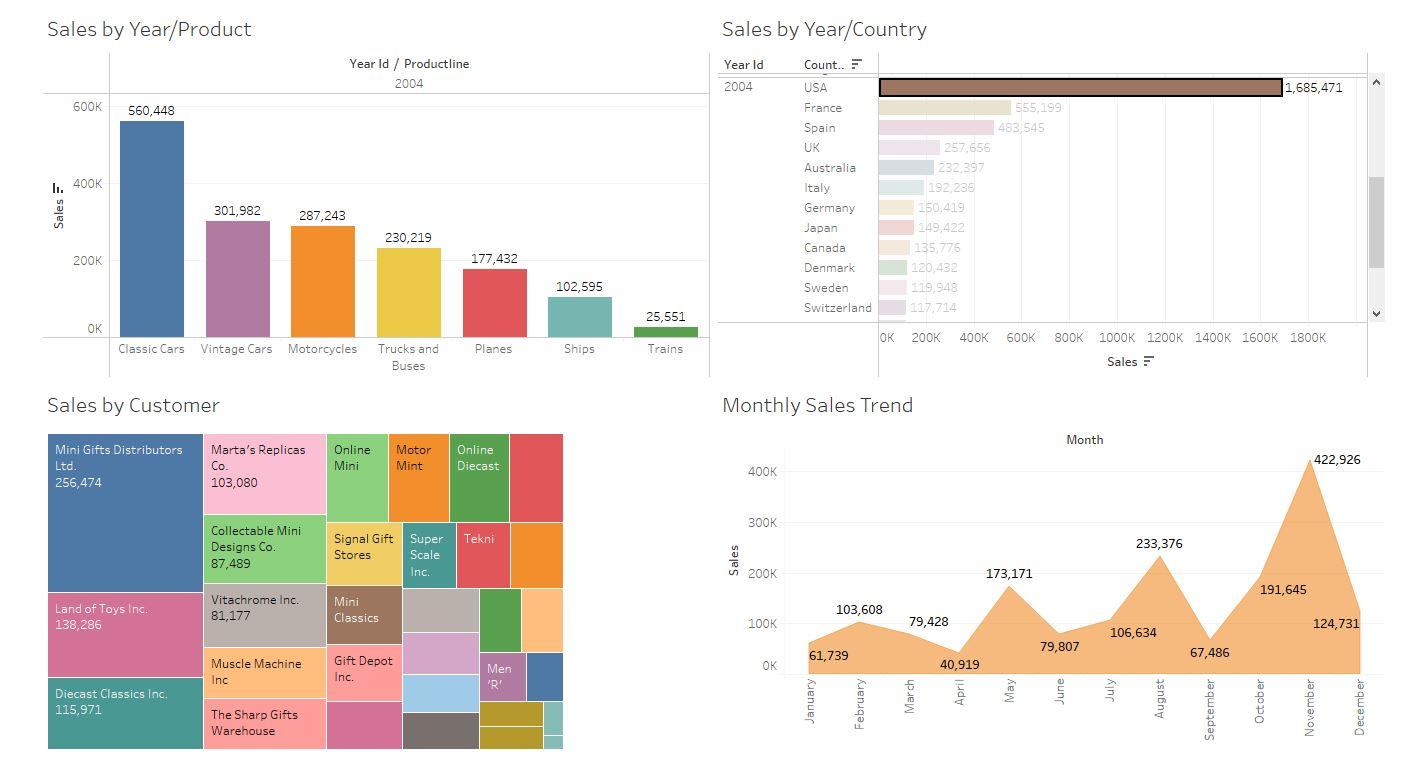

Layout of this report page (visuals, bound fields, positions):
{"tool":"tableau","page":{"name":"Sales Analysis Dashboard","canvas":[1366,768],"ordinal":0},"visuals":[{"type":"worksheet","title":"Sales by Year/Product","mark":"Automatic","rows":["SALES"],"cols":["YEAR_ID","PRODUCTLINE"],"box":[8,8,675,376]},{"type":"worksheet","title":"Sales by Year/Country","mark":"Automatic","rows":["YEAR_ID","COUNTRY"],"cols":["SALES"],"box":[683,8,675,376]},{"type":"worksheet","title":"Sales by Customer","mark":"Automatic","box":[8,384,675,376]},{"type":"worksheet","title":"Monthly Sales Trend","mark":"Area","rows":["SALES"],"cols":["Month"],"box":[683,384,675,376]}]}

Visuals, with their boxes on the page's 1366x768 design canvas (x1, y1, x2, y2). These are canvas units, not pixel positions in the 1417x757 screenshot, which may show the page scaled, cropped or inside an application window:
"Sales by Year/Product" worksheet: 8,8,683,384
"Sales by Year/Country" worksheet: 683,8,1358,384
"Sales by Customer" worksheet: 8,384,683,760
"Monthly Sales Trend" worksheet (Area marks): 683,384,1358,760
